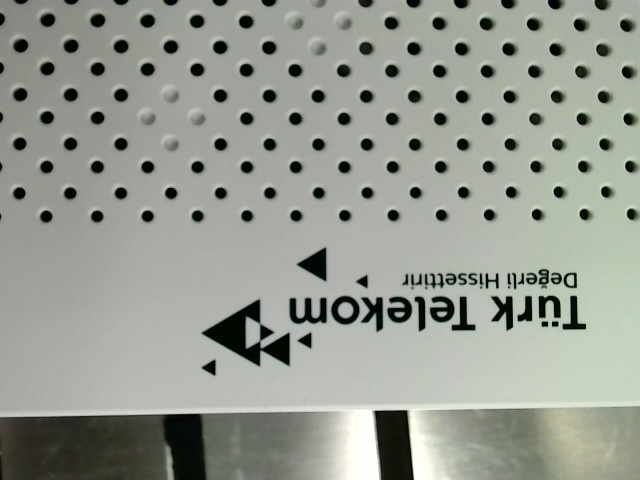AQ_TURKTelekom: (181, 245, 587, 381)
